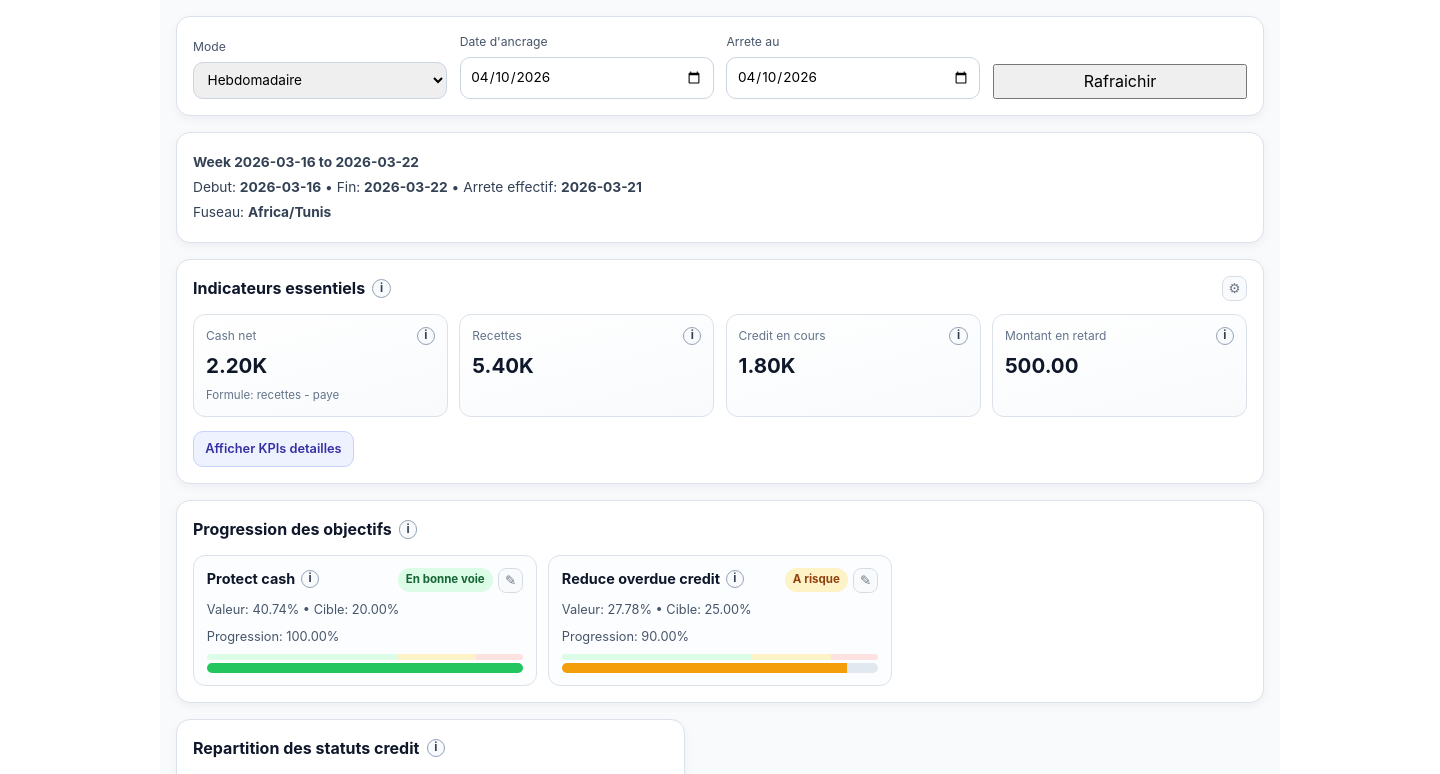
Scenario: HomeDashboardPage visual refresh › renders only 4 primary KPIs and toggles detailed KPIs
Expected: the element with test id "kpi-primary-net-cash" is shown, [193,314,448,417]
Expected: the element with test id "kpi-primary-revenue" is shown, [459,314,714,417]
Click the button "Afficher KPIs detailles" at coordinates (273, 449), box [193,431,354,467]
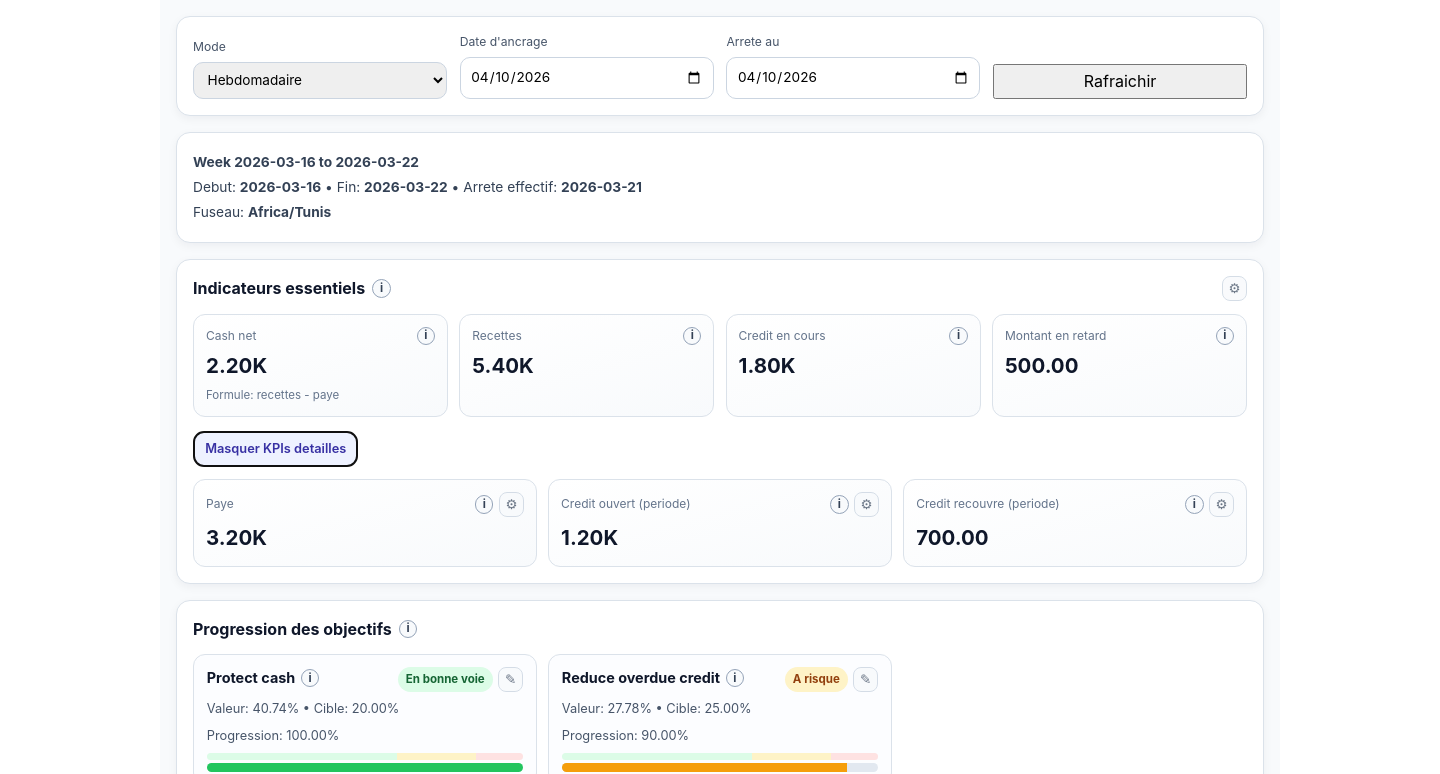
Now the element with test id "kpi-detailed-paid" is shown, box [193,479,537,566]
Now the element with test id "kpi-detailed-opened" is shown, box [548,479,892,566]
Now the element with test id "kpi-detailed-collected" is shown, box [903,479,1247,566]
